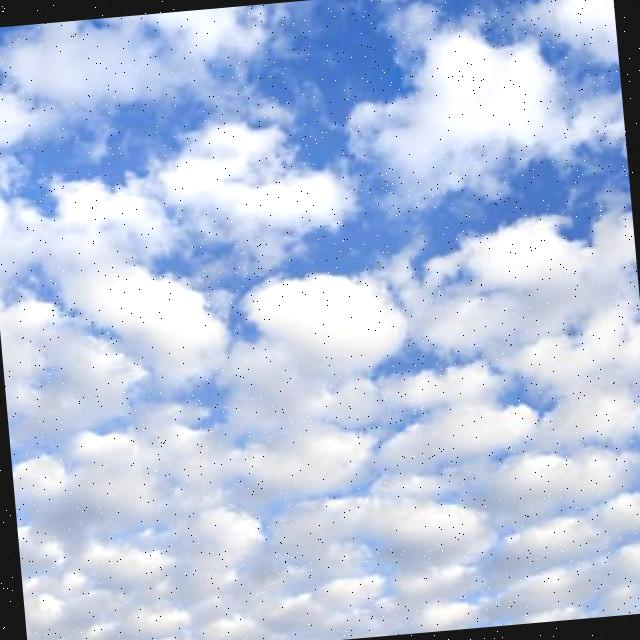Cc: (1, 27, 640, 637)
